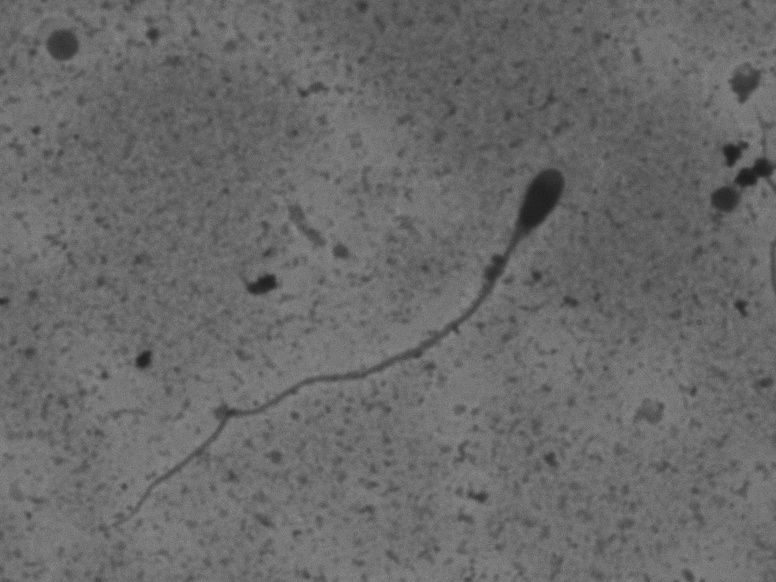Abnormal: (58, 154, 639, 553)
